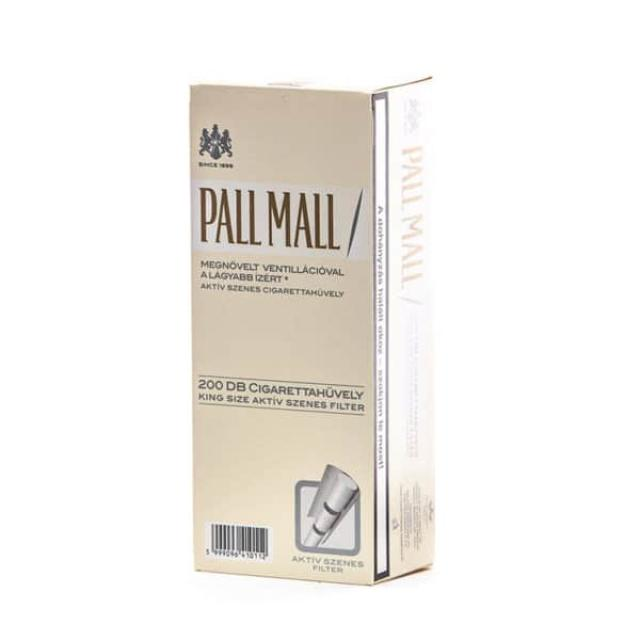pallmall: (191, 71, 392, 584)
